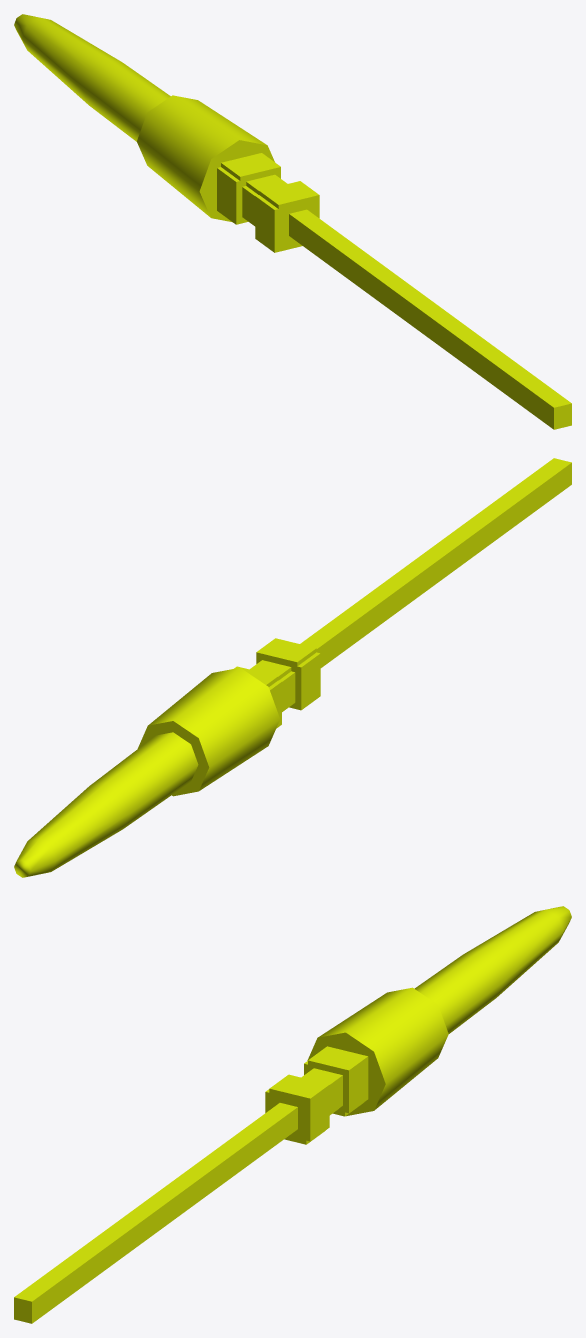
File: light_beam.glb
3 views of the same model, one above another, from view 1: azimuth 30°, elevation 25°; view 2: azimuth 150°, elevation 25°; view 3: azimuth 330°, elevation 25° (orthographic).
Visible parts, largest first — view 1: mergedBlocks(Clone); view 2: mergedBlocks(Clone); view 3: mergedBlocks(Clone).
Boxes of the visible parts, x1=… form: mergedBlocks(Clone): x1=14, y1=14, x2=571, y2=429; mergedBlocks(Clone): x1=14, y1=458, x2=571, y2=877; mergedBlocks(Clone): x1=14, y1=906, x2=571, y2=1323.
Size of the model in its own units: 0.4 by 0.4 by 4.68.
